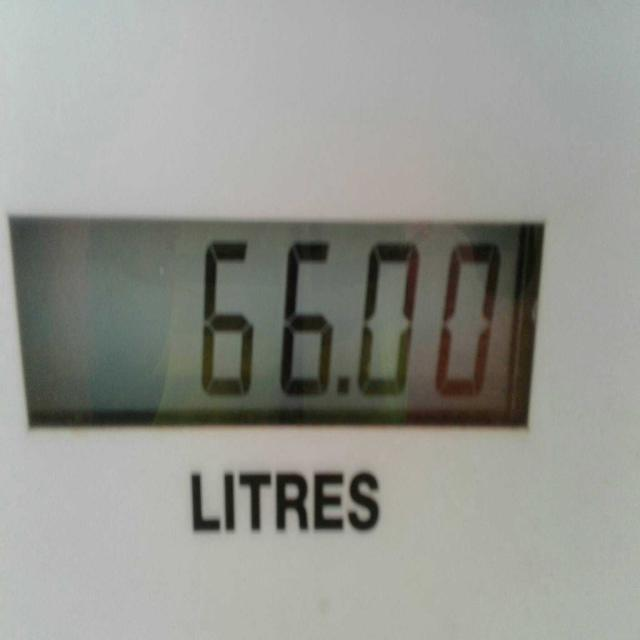.: (327, 366, 353, 410)
0: (350, 236, 426, 414), (429, 236, 504, 412)
6: (183, 229, 263, 398), (270, 246, 338, 417)
